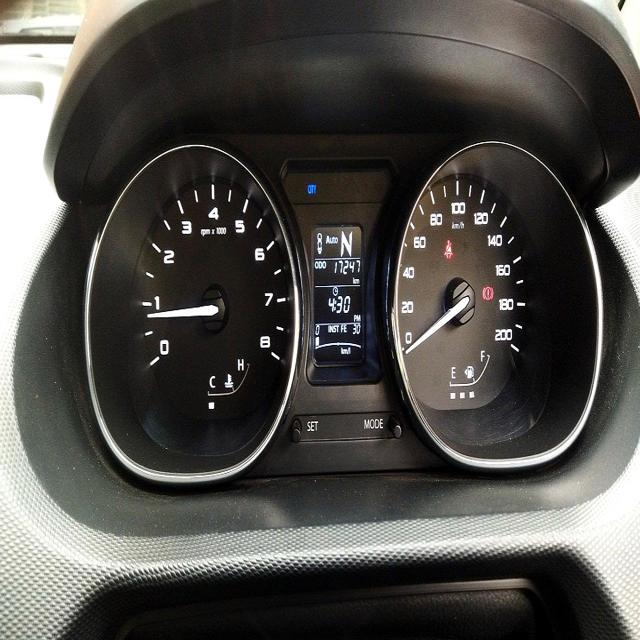odometer: (329, 256, 362, 276)
